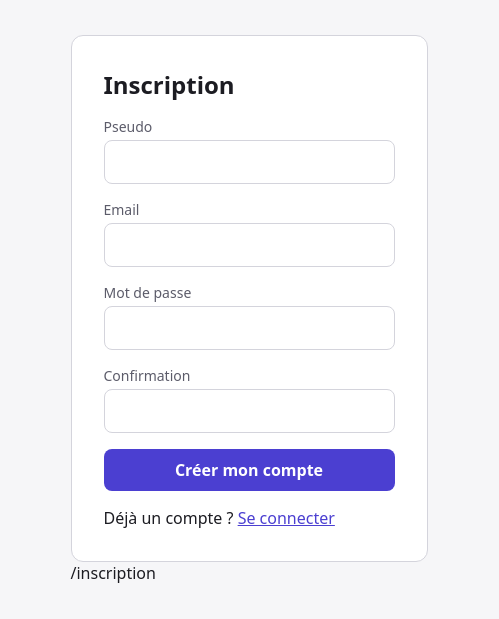
Test: Inscription › refuse un mot de passe de moins de 8 caractères
This screenshot has width=499, height=619.
In the field labelled "Pseudo": (249, 162) [104, 140, 394, 184], type "Theo"
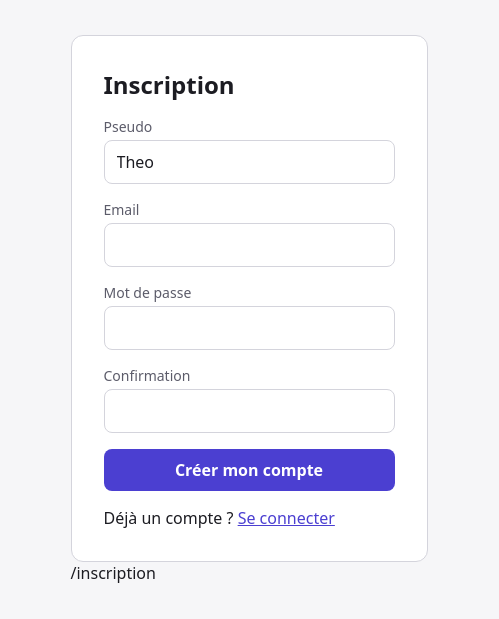
In the field labelled "Email": (249, 244) [104, 222, 394, 266], type "theo@exemple.fr"
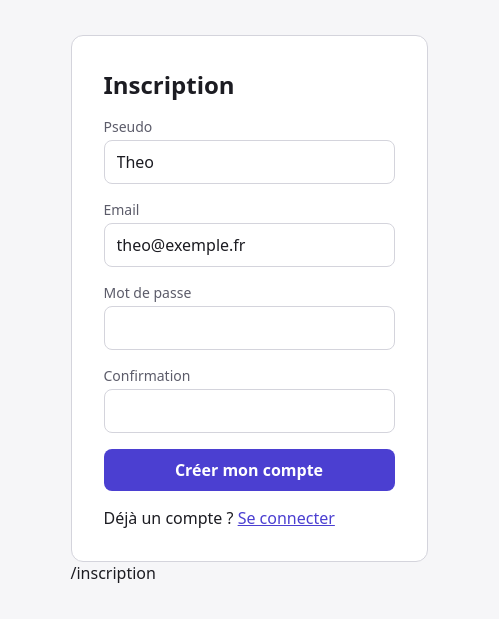
In the password field labelled "Mot de passe": (249, 328) [104, 306, 394, 350], type "court"
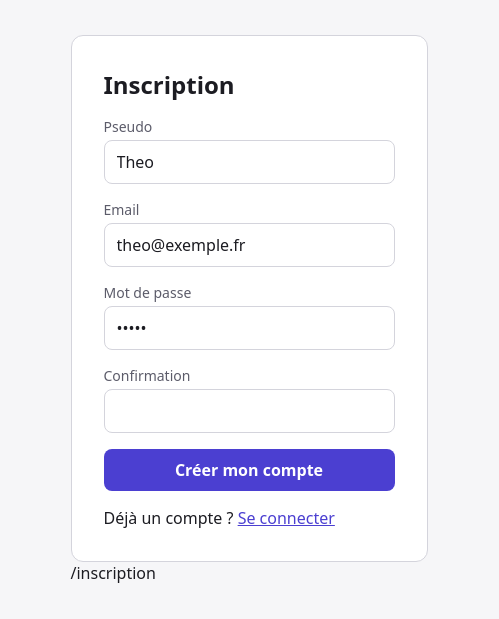
In the password field labelled "Confirmation": (249, 410) [104, 388, 394, 432], type "court"
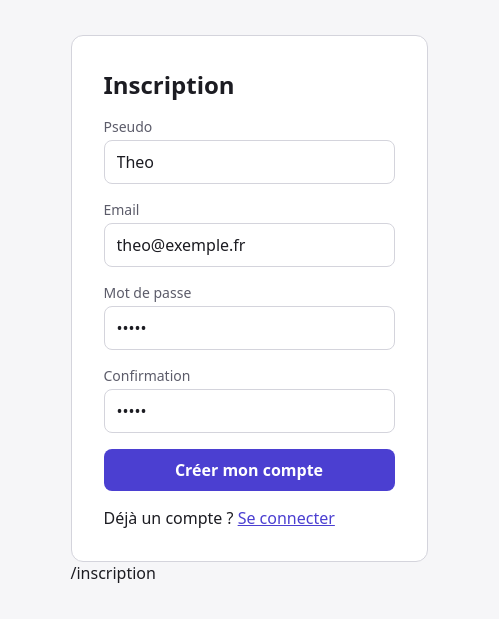
Click the button "Créer mon compte": (249, 470) [104, 448, 394, 490]
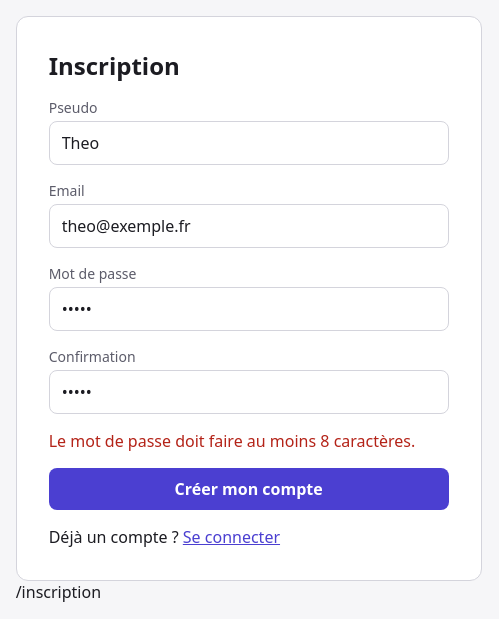
Check: the message reads "Le mot de passe doit faire au moins 8 caractères.", box [49, 430, 415, 452]
